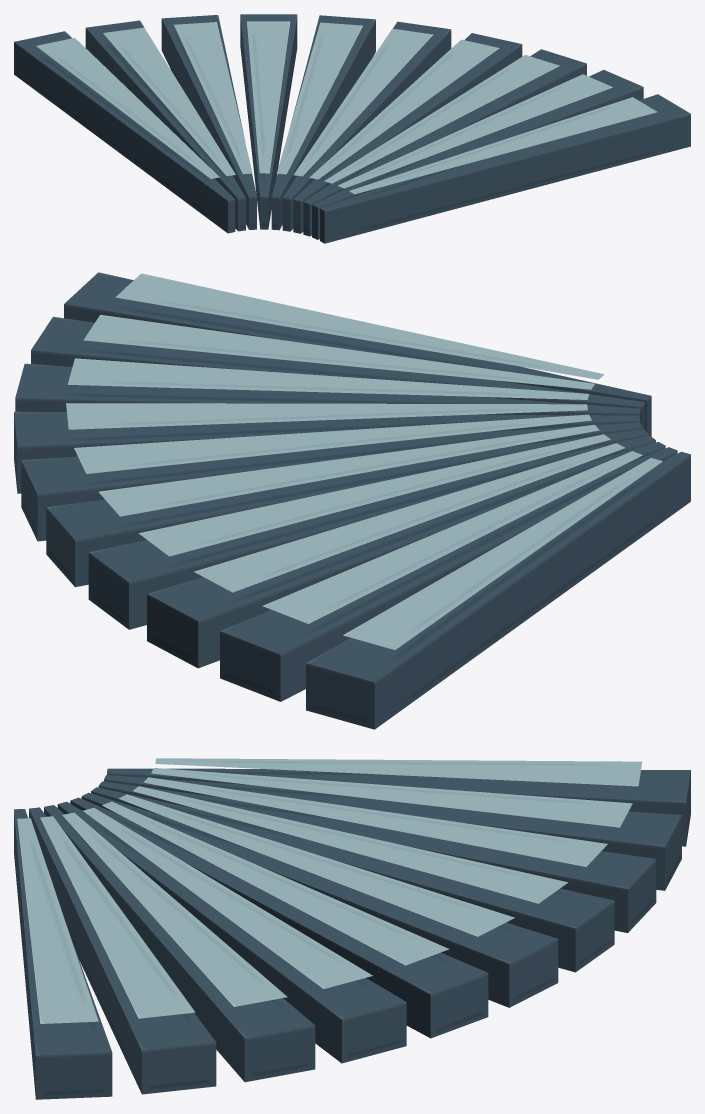
File: sc_tread_curve_left_1.obj
3 renders of one model, top to bottom at view 1: azimuth 30°, elevation 25°; view 2: azimuth 150°, elevation 25°; view 3: azimuth 270°, elevation 25°, orthographic. The views are drawn at different scales.
Bounding box in the file's own units: 17.47 × 1.56 × 17.41.
Materials: 1 (1 with a texture image).
